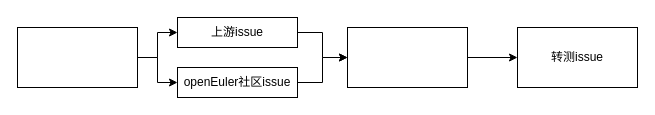
Some shapes in this 655 by 115 pixel diagram are drawn without their labels. Here are the shapes that lost their labels. From the top down, the centre of each, then its label:
At pixel 77 57: "软件问题".
At pixel 407 57: "版本issue".
